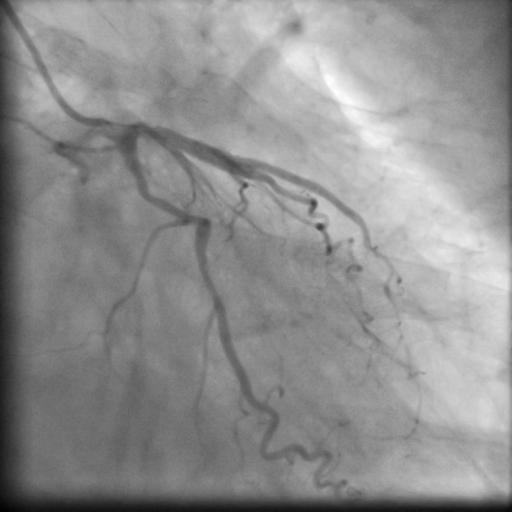Stenosis: (163, 197, 208, 227)
